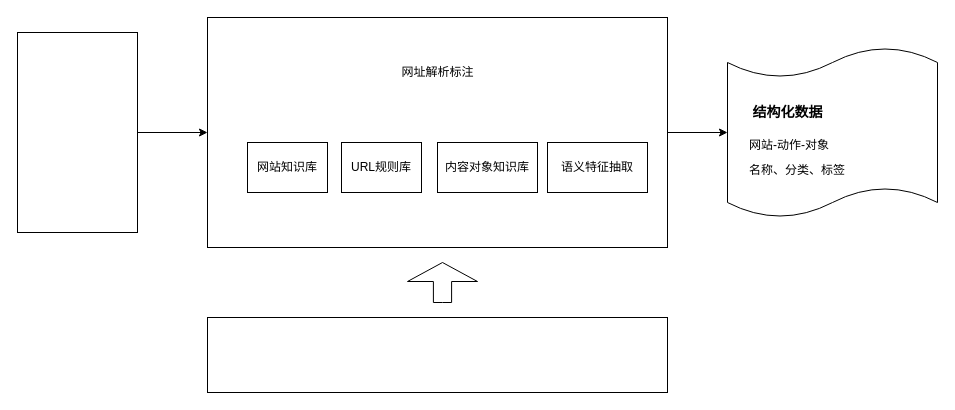
This 955x410 diagram has some shape labels left out. Here are the shapes that lost their labels. From the top down, the centre of each, then its label:
the point at 77,132: URL字符串
the point at 437,354: 网页内容爬虫
